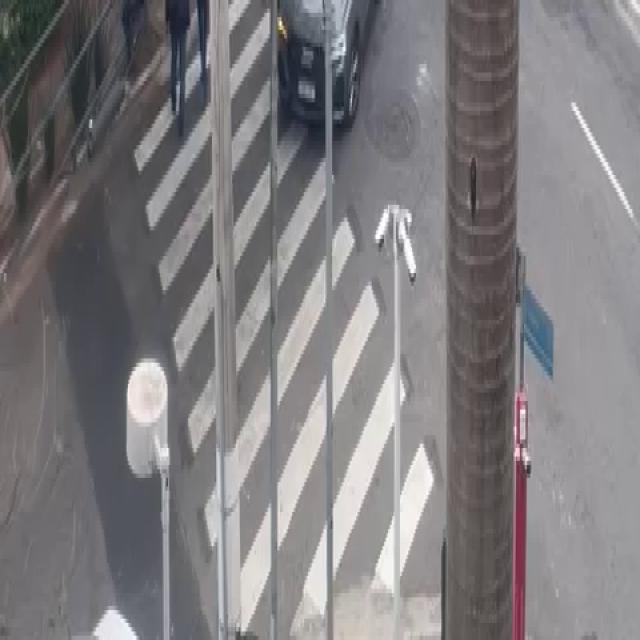car: (267, 0, 390, 168)
